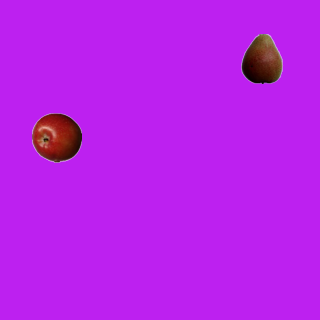Apple Braeburn: (31, 112, 81, 162)
Pear Forelle: (236, 33, 286, 83)
